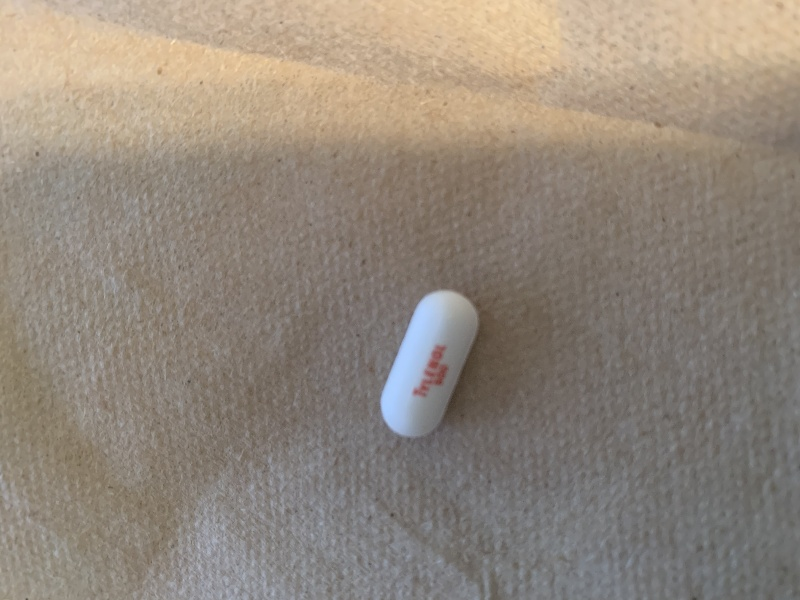Tylenol: (362, 290, 490, 443)
